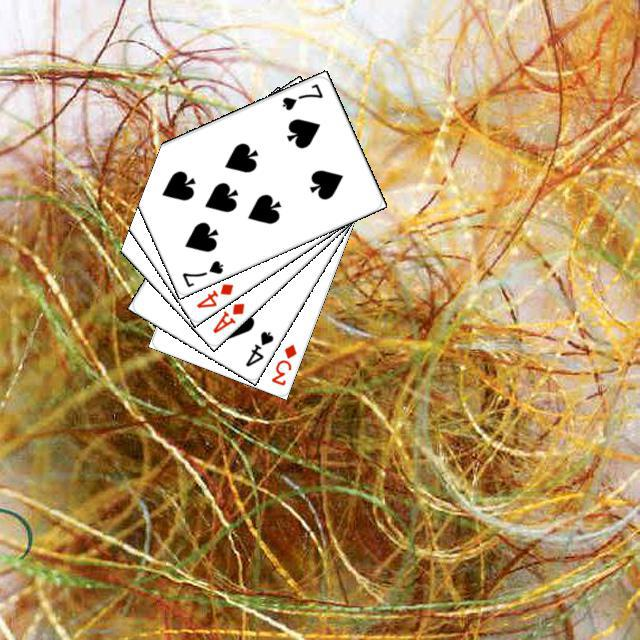3d: (266, 339, 298, 387)
4d: (191, 278, 235, 310)
4s: (240, 326, 275, 368)
7s: (177, 255, 225, 289), (277, 79, 325, 112)
Ad: (207, 298, 246, 335)
